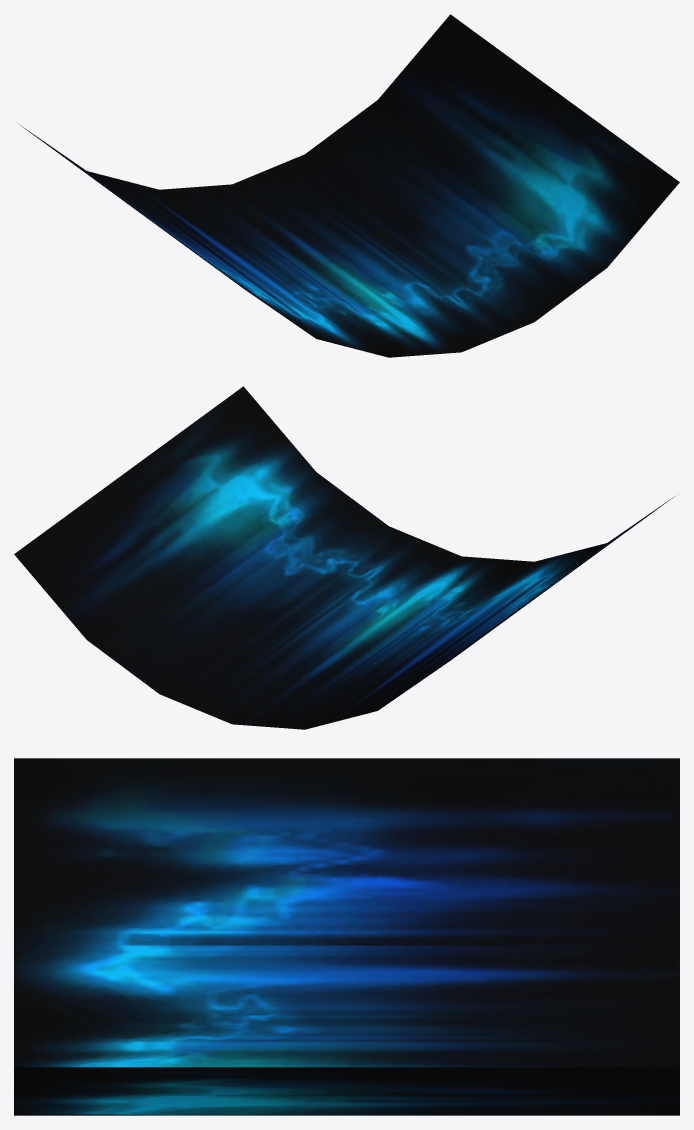
The model's file is mesh_zudang.FBX.
3 renders of one model, top to bottom at view 1: azimuth 30°, elevation 25°; view 2: azimuth 150°, elevation 25°; view 3: azimuth 270°, elevation 25°, orthographic. The views are drawn at different scales.
Parts seen in each view (by area): view 1: mesh_zudang; view 2: mesh_zudang; view 3: mesh_zudang.
Boxes of the visible parts, x1,y1,x2,y2 form: mesh_zudang: (19,14,679,357); mesh_zudang: (14,386,674,729); mesh_zudang: (14,758,679,1115).
Size of the model in its own units: 48.55 by 12.42 by 44.22.
